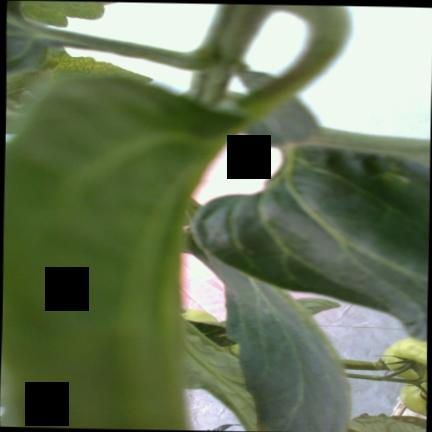tomato: (382, 337, 425, 377), (399, 381, 426, 414), (181, 307, 217, 321)
